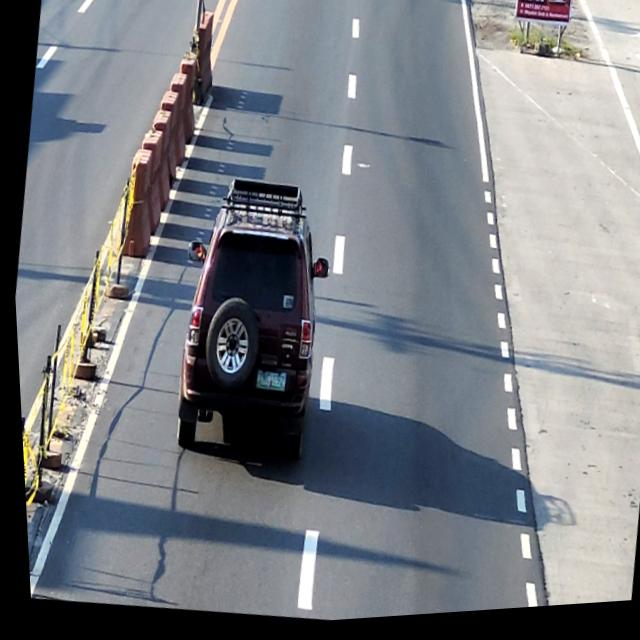Car: (153, 171, 346, 476)
License-Plate: (250, 372, 283, 397)
